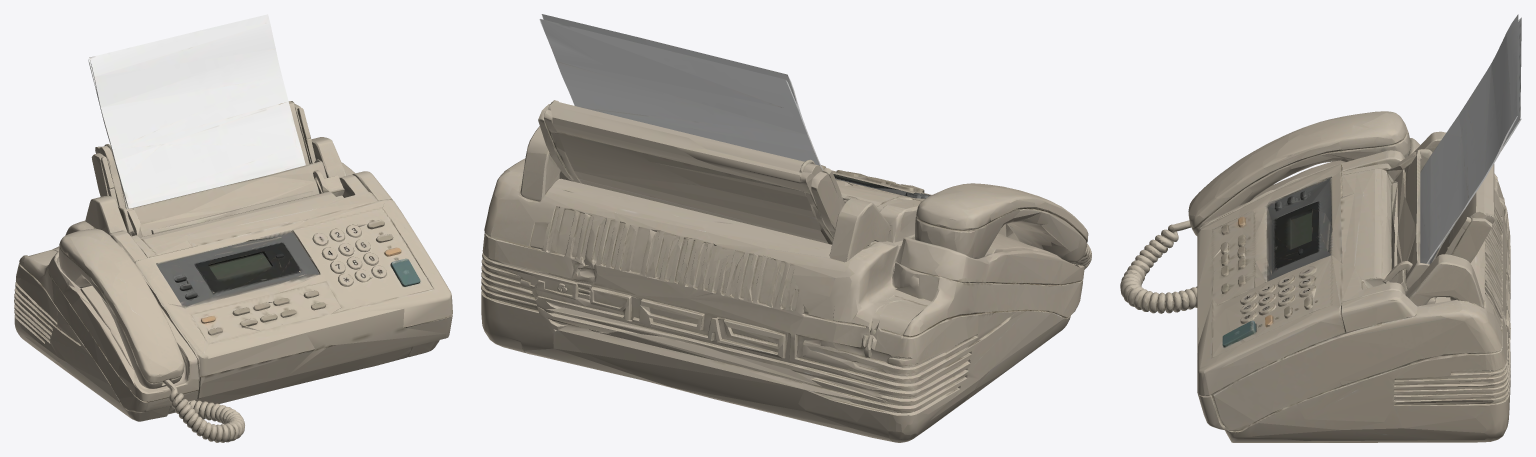
The model's file is fax.glb.
The picture shows the model from 3 angles, left to right: view 1: azimuth 30°, elevation 25°; view 2: azimuth 150°, elevation 25°; view 3: azimuth 270°, elevation 25°; orthographic projection. The views are drawn at different scales.
Parts seen in each view (by area): view 1: Mesh_0; view 2: Mesh_0; view 3: Mesh_0.
Boxes of the visible parts, box(x1,y1,x2,y2) form: Mesh_0: box(14, 14, 452, 442); Mesh_0: box(481, 14, 1091, 442); Mesh_0: box(1120, 14, 1521, 442).
Size of the model in its own units: 1.9 by 1.49 by 1.77.
Materials: 1 (1 with a texture image).
